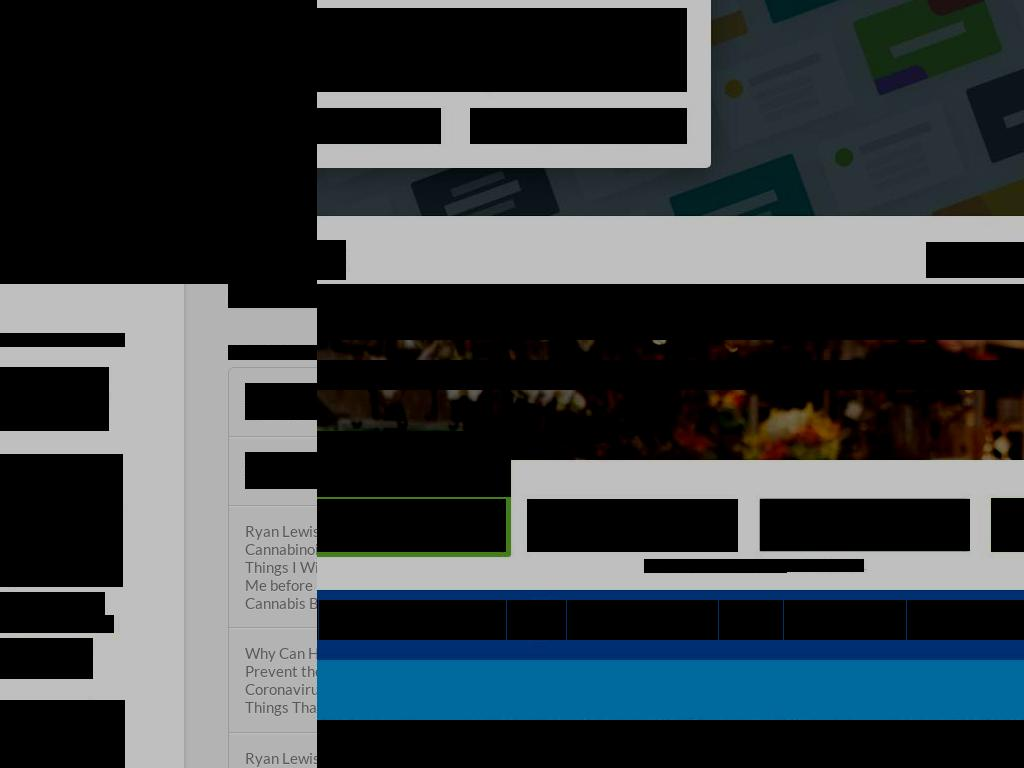button: (0, 0, 317, 284), (760, 499, 970, 551), (470, 108, 687, 144), (245, 521, 317, 612), (245, 644, 317, 717), (79, 216, 206, 256), (317, 108, 441, 144), (226, 216, 317, 256), (926, 242, 1024, 278), (245, 383, 317, 420), (245, 452, 317, 489)
field: (527, 499, 738, 552), (317, 499, 506, 552), (228, 284, 317, 308)
heading: (317, 284, 1024, 340), (317, 360, 1024, 390), (0, 333, 125, 347), (228, 345, 317, 360)
image: (0, 0, 317, 284), (998, 250, 1018, 271), (939, 522, 950, 528)
link: (0, 615, 114, 633), (787, 559, 864, 572)
text: (317, 720, 1024, 768), (317, 8, 687, 92), (79, 112, 317, 184), (0, 454, 123, 587), (79, 42, 317, 96), (317, 431, 511, 497), (0, 152, 317, 176), (319, 600, 506, 640), (0, 367, 109, 431), (567, 600, 718, 640), (0, 240, 317, 258), (784, 600, 906, 640), (907, 600, 1024, 640), (0, 592, 105, 633), (719, 600, 783, 640), (507, 600, 566, 640), (644, 559, 787, 573), (939, 250, 998, 269), (780, 516, 842, 534)
